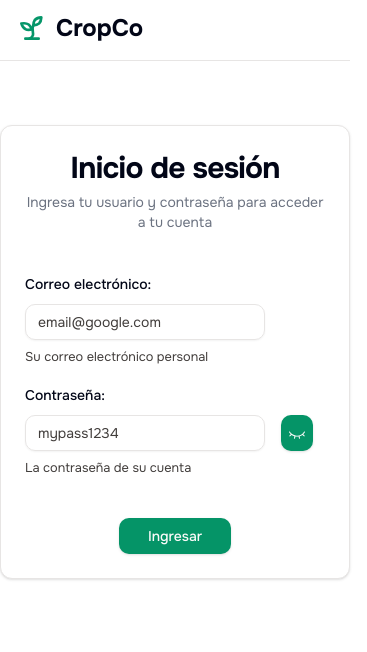
Test case: Login Component › debería validar campos requeridos
The image size is (367, 652).
// Intentar enviar sin datos
Click the button "Ingresar" at (175, 536), box [119,518,231,554]
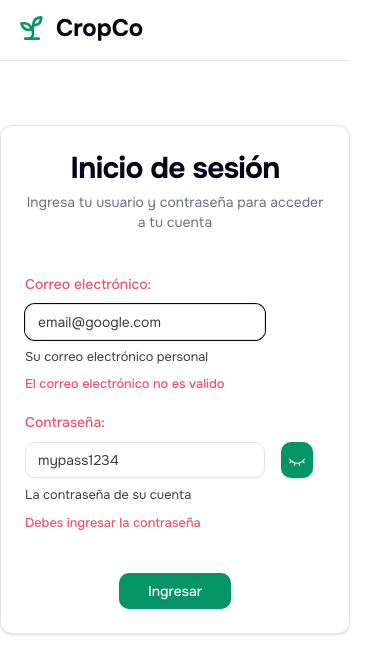
Now the text "El correo electrónico no es valido" is shown, box [25,376,224,392]
Now the text "Debes ingresar la contraseña" is shown, box [25,515,201,531]
